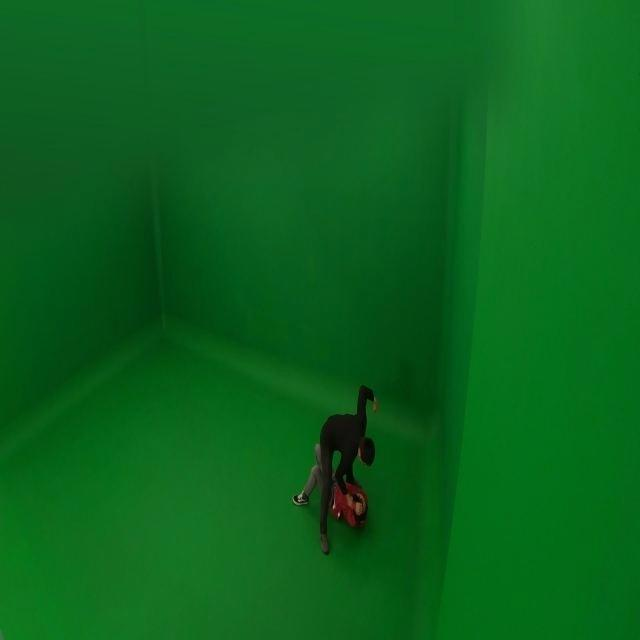fight: (293, 384, 378, 557)
